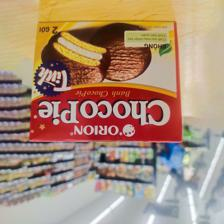Chocopie: (27, 19, 185, 145)
